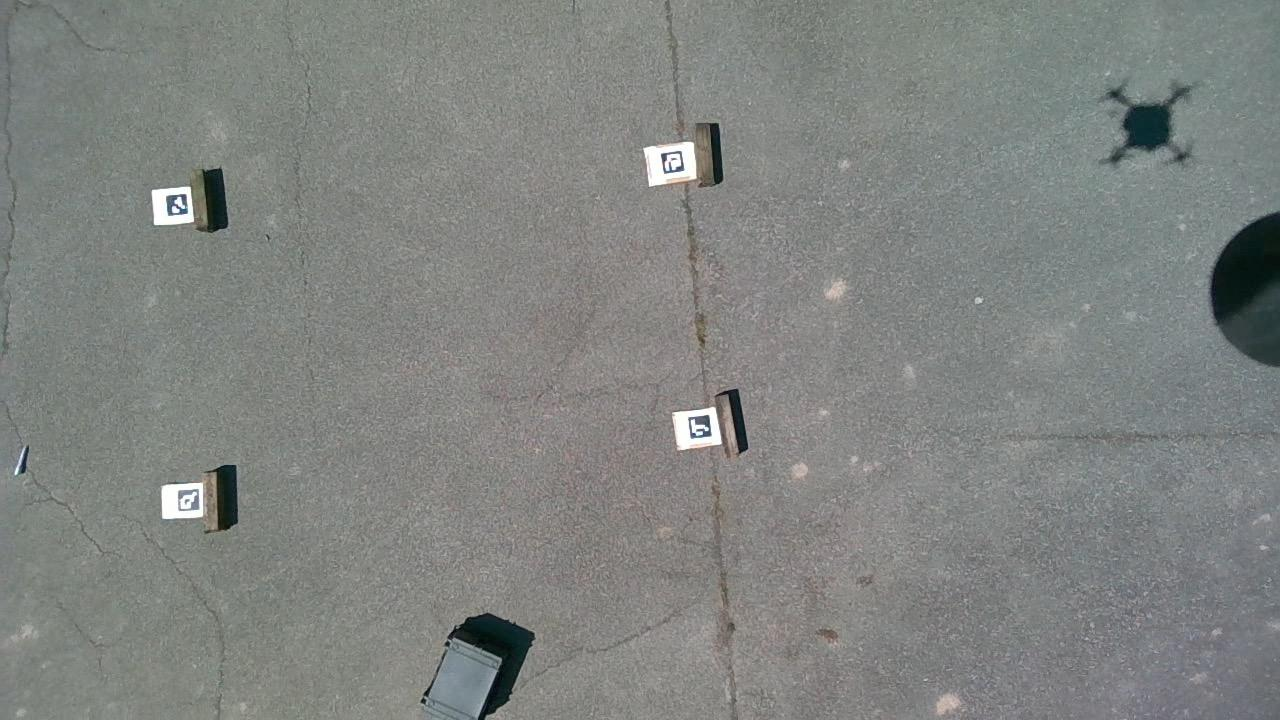probes: (9, 446, 31, 479)
rako: (412, 618, 522, 720)
